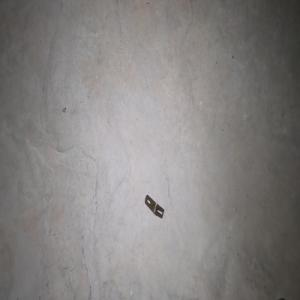MetalPart: (144, 193, 164, 219)
